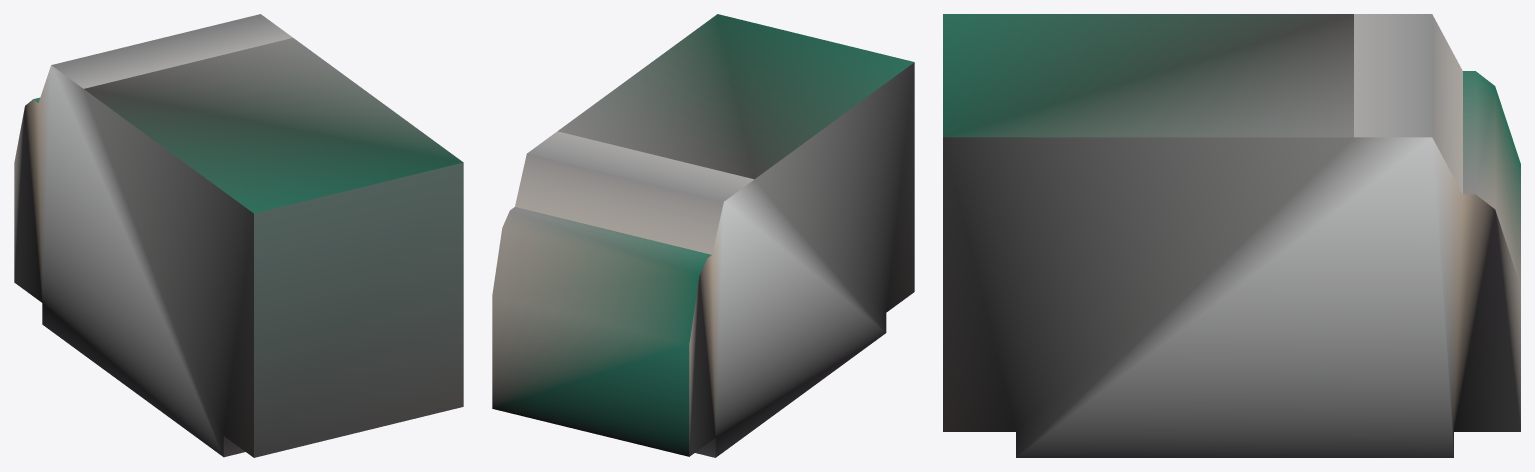
Rendered from truck-green.glb.
3 renders of one model, left to right at view 1: azimuth 30°, elevation 25°; view 2: azimuth 150°, elevation 25°; view 3: azimuth 270°, elevation 25°, orthographic. The views are drawn at different scales.
Visible parts, largest first — view 1: truck-green; view 2: truck-green; view 3: truck-green.
Part boxes in pixels (x1,y1,x2,y2): truck-green: [14, 14, 463, 457]; truck-green: [492, 14, 914, 457]; truck-green: [943, 14, 1520, 457].
Bounding box in the file's own units: 0.83 × 1.01 × 1.64.
